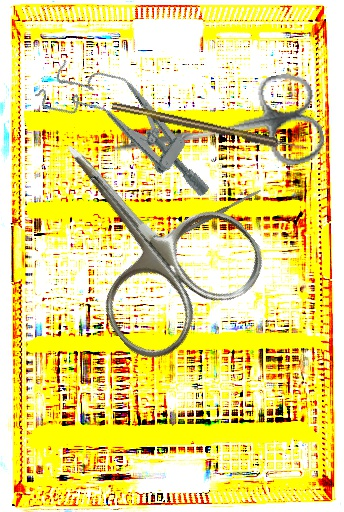Hook Surgical: (110, 100, 306, 155)
Iris Scissors: (5, 91, 277, 373), (104, 68, 328, 199)
Spatula Surgical: (151, 187, 264, 251)
Speculum: (31, 41, 234, 211)
